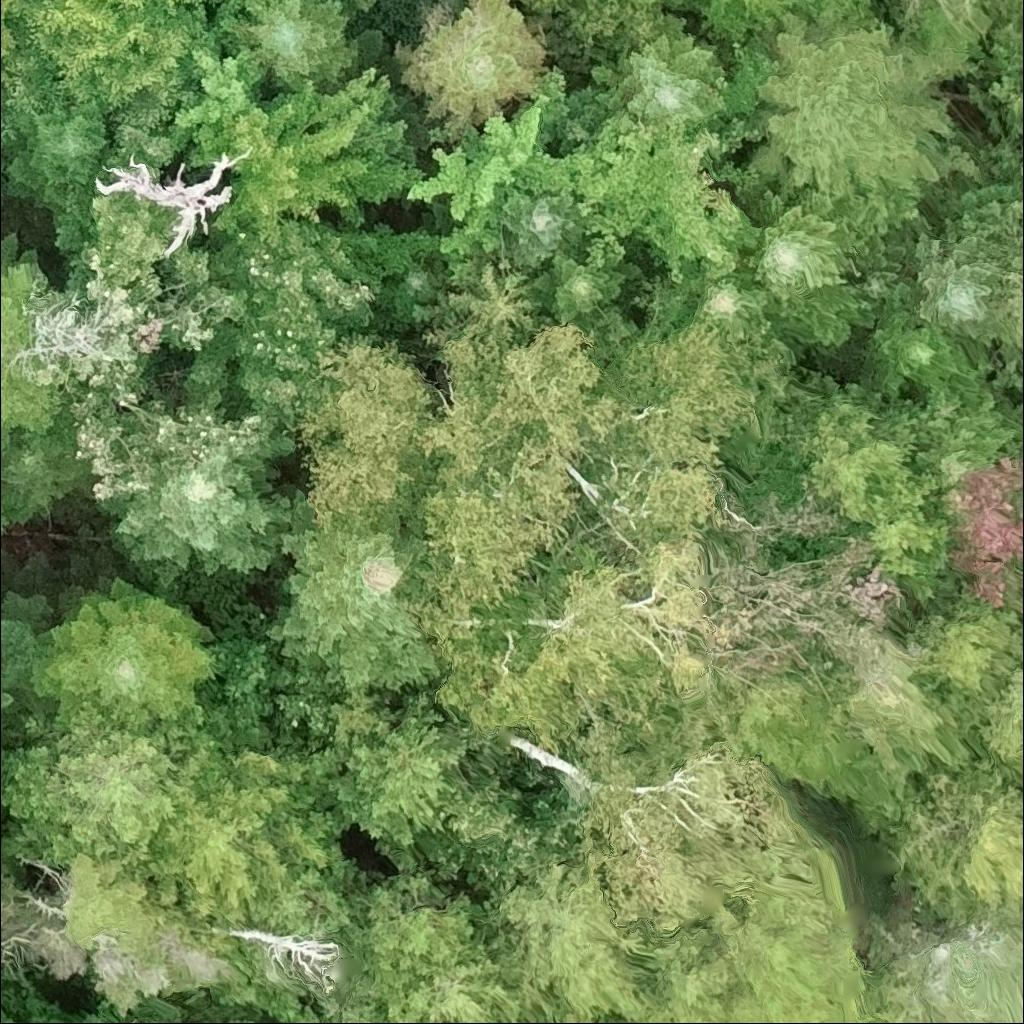crown: (410, 318, 631, 664), (35, 257, 305, 502), (434, 524, 711, 748), (179, 215, 445, 430), (560, 707, 816, 930), (572, 314, 786, 543), (746, 11, 984, 208), (186, 67, 436, 246), (695, 472, 904, 686), (0, 0, 248, 166), (0, 699, 232, 876), (402, 65, 596, 259), (263, 493, 446, 691), (139, 748, 338, 925), (572, 107, 762, 282), (471, 853, 658, 1023), (94, 445, 296, 590), (28, 575, 217, 729), (296, 332, 435, 535), (303, 692, 469, 847), (345, 876, 520, 1023), (879, 749, 1023, 924), (731, 184, 872, 351), (395, 0, 550, 141), (779, 370, 916, 527), (50, 183, 216, 301), (93, 146, 255, 258), (911, 182, 1015, 350), (589, 13, 727, 132), (410, 249, 542, 367), (0, 230, 67, 454), (938, 450, 1023, 616), (0, 92, 117, 208), (222, 0, 361, 96), (905, 594, 1023, 704), (636, 258, 782, 345), (166, 30, 266, 153), (0, 401, 92, 523), (966, 21, 1023, 189), (862, 312, 978, 393), (526, 250, 641, 330), (9, 293, 117, 370), (849, 221, 922, 332), (691, 0, 878, 43), (502, 189, 582, 276), (0, 586, 58, 698), (976, 656, 1023, 789), (994, 182, 1023, 367), (374, 254, 449, 322), (541, 83, 616, 150), (140, 990, 258, 1023), (0, 0, 25, 90), (279, 1001, 379, 1023), (0, 679, 18, 716), (611, 0, 692, 8), (0, 899, 14, 934), (991, 0, 1023, 11), (0, 512, 11, 531)
